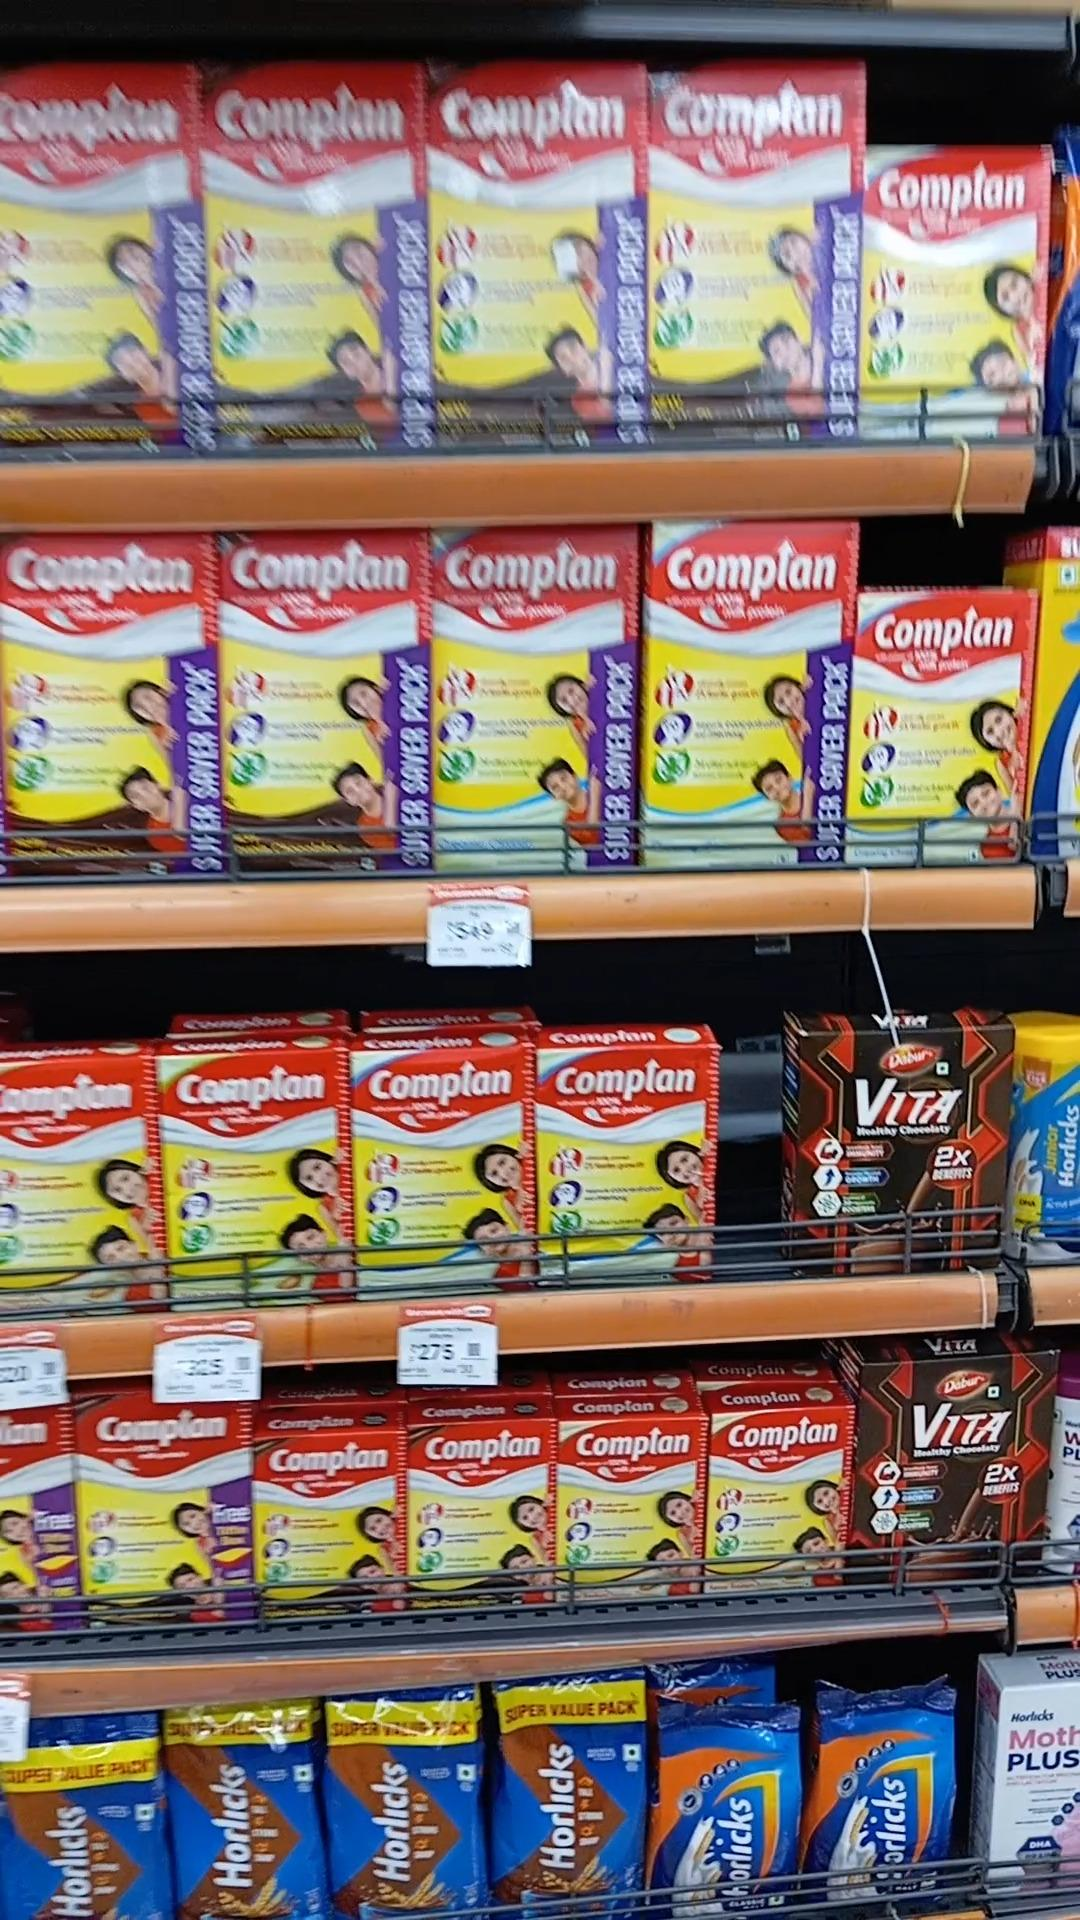COMPLAN_CHOCOLATE_1_KG_PACK: (204, 58, 422, 459), (431, 59, 634, 464), (647, 65, 858, 442), (0, 58, 193, 462), (0, 531, 216, 870), (222, 535, 422, 884)
COMPLAN_CHOCOLATE_200_GMS_JAR: (258, 1433, 402, 1629), (410, 1419, 553, 1615)
COMPLAN_CHOCOLATE_500_GMS_PACK: (71, 1394, 243, 1625)
COMPLAN_CREAMY_CLASSIC_500_G_PACK: (857, 138, 1046, 440), (852, 584, 1042, 868), (352, 1052, 533, 1290), (545, 1047, 715, 1275)
COMPLAN_KESAR_BADAM_200_GMS_PACK: (556, 1422, 707, 1611), (712, 1416, 855, 1594)
COMPLAN_KESAR_BADAM_500_GMS_PACK: (0, 1060, 148, 1313)
COMPLAN_PISTA_BADAM_500_GMS_PACK: (158, 1055, 345, 1303)
HORLICK_CHOCOLATE_750_G_POUCH: (166, 1698, 324, 1920), (496, 1677, 638, 1920), (330, 1691, 476, 1920), (0, 1708, 156, 1920)
HORLICK_CLASSIC_MALT_750_G_POUCH: (812, 1698, 953, 1920), (654, 1710, 798, 1920)
